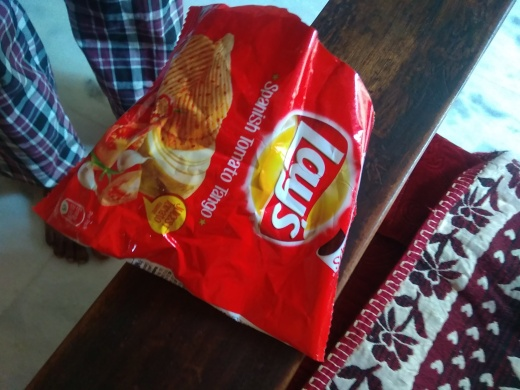lays: (63, 2, 385, 363)
